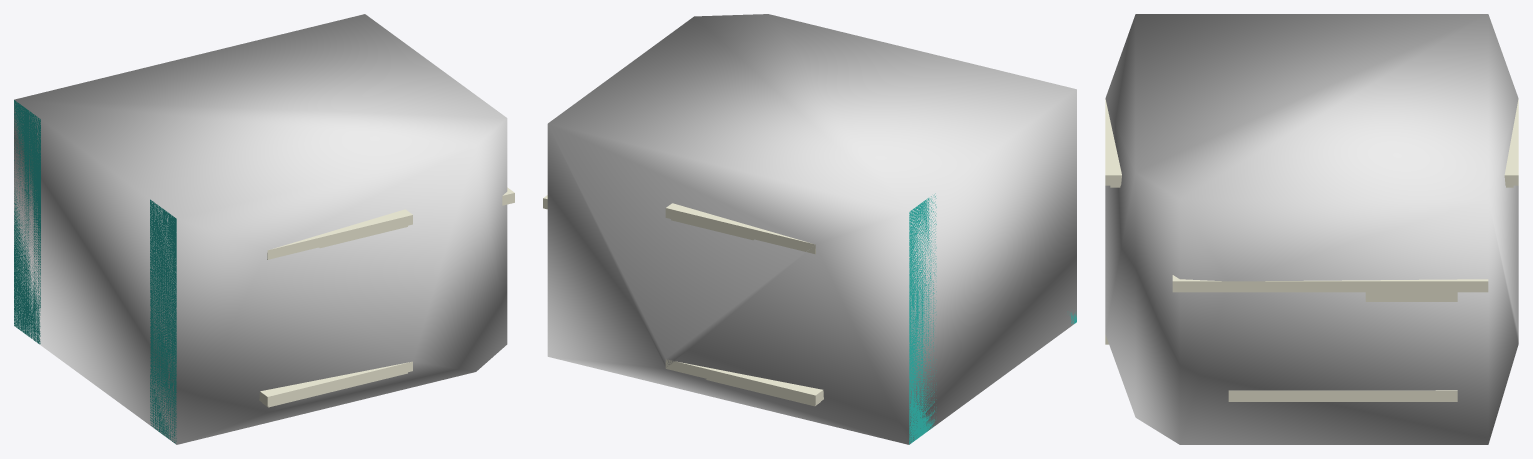
3 views of the same model, side by side, from view 1: azimuth 30°, elevation 25°; view 2: azimuth 150°, elevation 25°; view 3: azimuth 270°, elevation 25° (orthographic). The views are drawn at different scales.
Parts seen in each view (by area): view 1: struct_city_block_tall_tier1_01_col, struct_city_block_tall_tier1_01; view 2: struct_city_block_tall_tier1_01_col, struct_city_block_tall_tier1_01; view 3: struct_city_block_tall_tier1_01_col, struct_city_block_tall_tier1_01.
Boxes of the visible parts, x1,y1,x2,y2 form: struct_city_block_tall_tier1_01_col: [14, 14, 507, 444]; struct_city_block_tall_tier1_01: [14, 100, 514, 443]; struct_city_block_tall_tier1_01_col: [547, 14, 1076, 444]; struct_city_block_tall_tier1_01: [543, 193, 1076, 444]; struct_city_block_tall_tier1_01_col: [1105, 14, 1518, 444]; struct_city_block_tall_tier1_01: [1105, 99, 1518, 401].
Size of the model in its own units: 9.13 by 5.55 by 8.48.
Materials: 2 (2 with a texture image).
